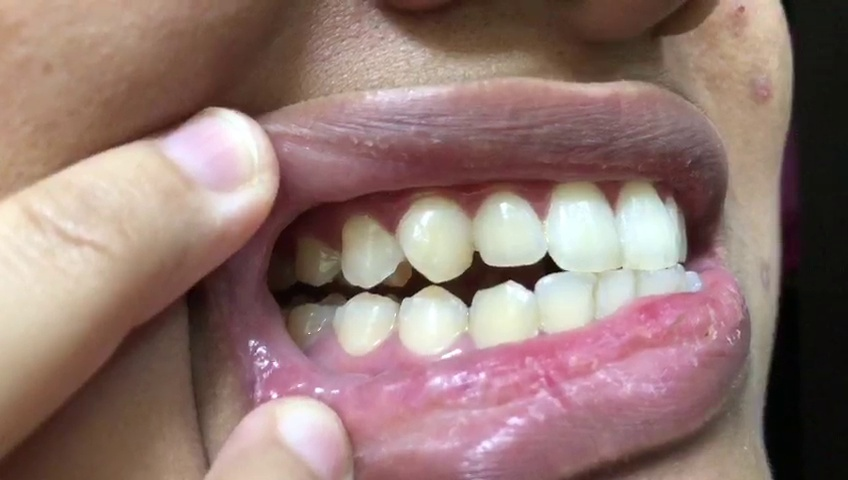1st Molar: (287, 299, 334, 350)
1st Premolar: (399, 286, 469, 358), (341, 214, 406, 288)
2nd Premolar: (334, 293, 399, 355), (292, 227, 341, 288)
Canine: (397, 193, 472, 282), (470, 279, 538, 350)
Central Incisor: (548, 179, 625, 271), (615, 179, 680, 269)
Lateral Incisor: (471, 188, 550, 265), (536, 269, 597, 341)
